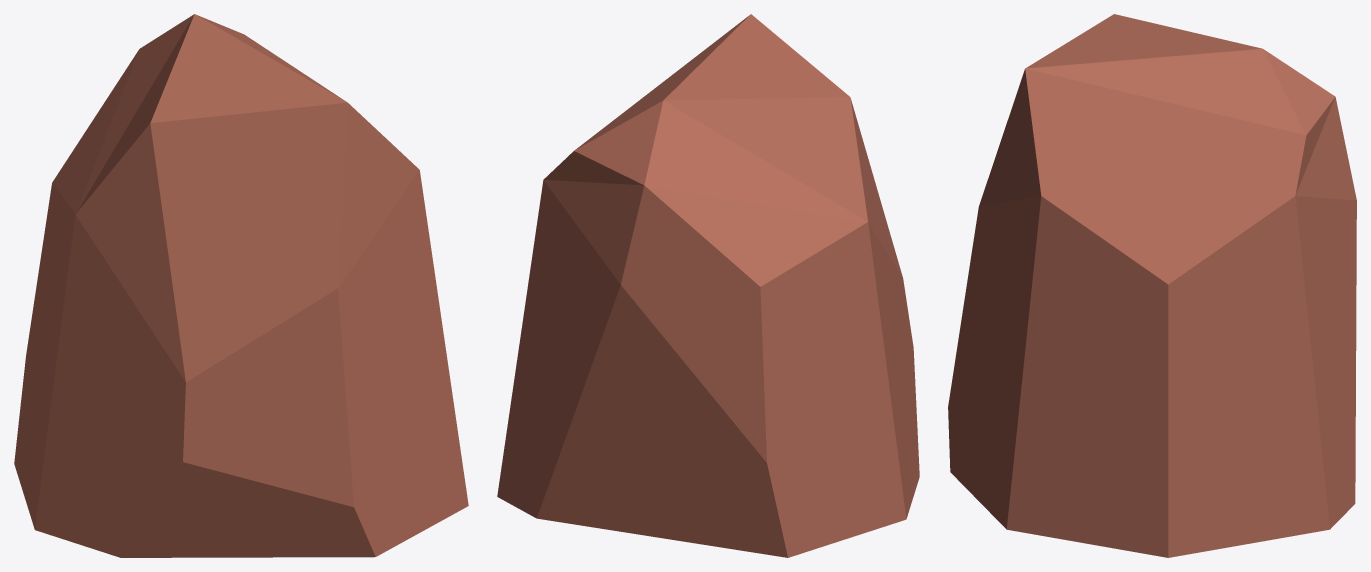
File: rock_009.fbx
The picture shows the model from 3 angles, left to right: view 1: azimuth 30°, elevation 25°; view 2: azimuth 150°, elevation 25°; view 3: azimuth 270°, elevation 25°; orthographic projection. The views are drawn at different scales.
Parts seen in each view (by area): view 1: rock_009; view 2: rock_009; view 3: rock_009.
Boxes of the visible parts, bbox=[...] form: rock_009: bbox=[14, 14, 468, 557]; rock_009: bbox=[497, 14, 919, 557]; rock_009: bbox=[948, 14, 1356, 557].
Size of the model in its own units: 372 by 333 by 372.
